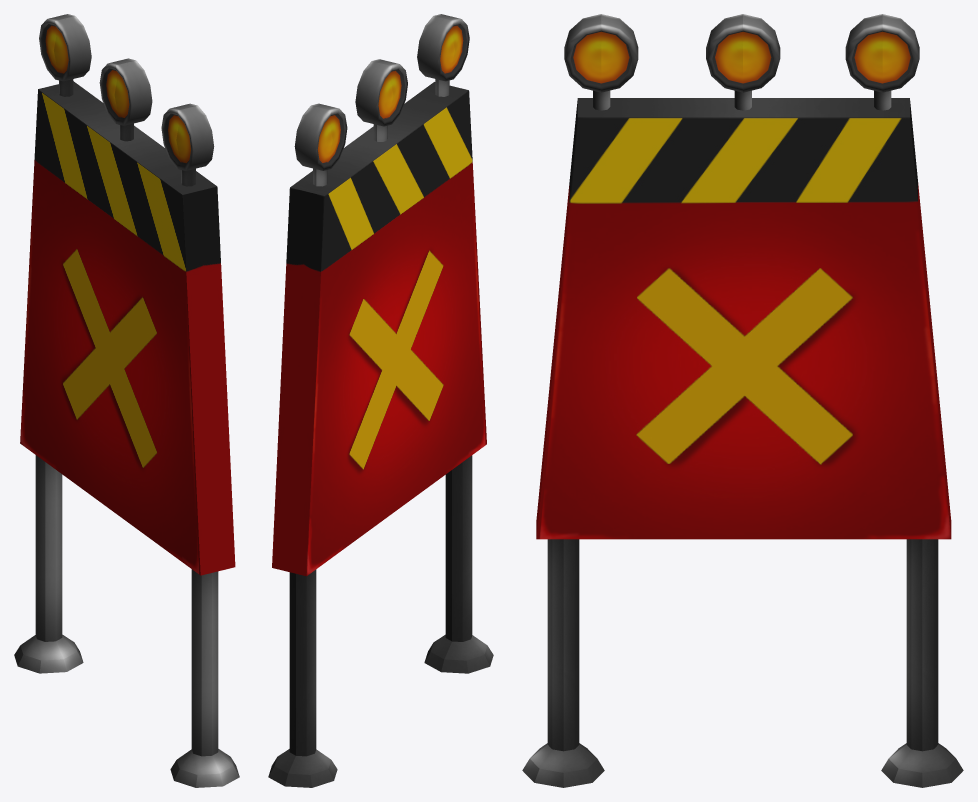
Rendered from Thanhchan_Fix 28-8 (1).fbx.
3 views of the same model, side by side, from view 1: azimuth 30°, elevation 25°; view 2: azimuth 150°, elevation 25°; view 3: azimuth 270°, elevation 25° (orthographic). The views are drawn at different scales.
Parts seen in each view (by area): view 1: polySurface15; view 2: polySurface15; view 3: polySurface15.
Boxes of the visible parts, <box> form: polySurface15: <box>14,14,239,787</box>; polySurface15: <box>268,14,493,787</box>; polySurface15: <box>522,14,963,787</box>.
Bounding box in the file's own units: 0.5522 × 5.54 × 2.95.
